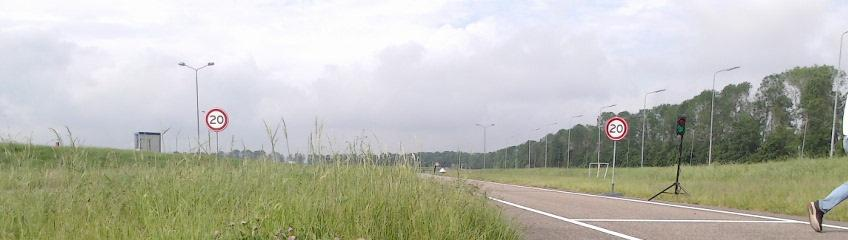Speed-limit-20km-h-: (205, 107, 230, 132), (605, 117, 628, 140)
TrafficLight-green: (676, 116, 686, 135)
